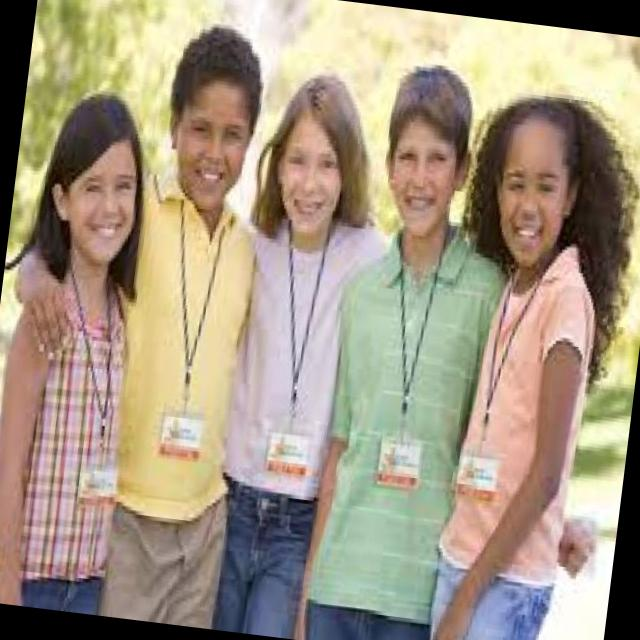id_card: (143, 187, 242, 469), (251, 217, 349, 484), (41, 264, 142, 512), (448, 250, 546, 500), (362, 238, 455, 498)
